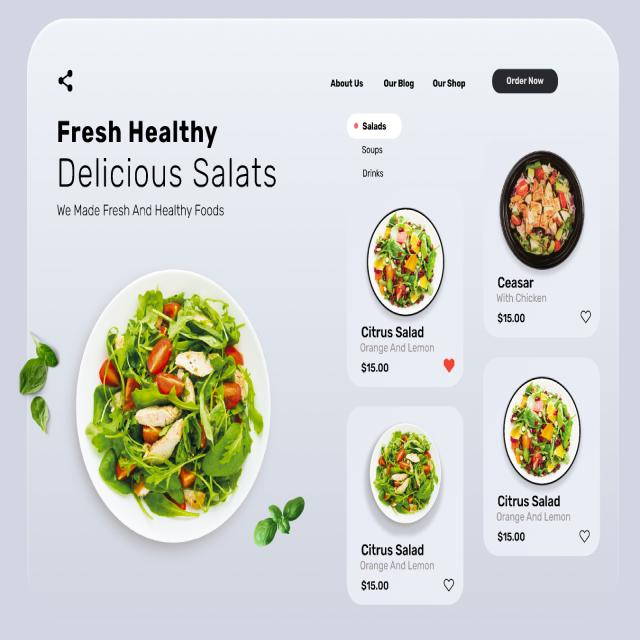button: (484, 357, 598, 556), (483, 147, 599, 337), (349, 412, 462, 604), (348, 203, 461, 388), (489, 61, 569, 106)
image: (59, 258, 285, 546)
